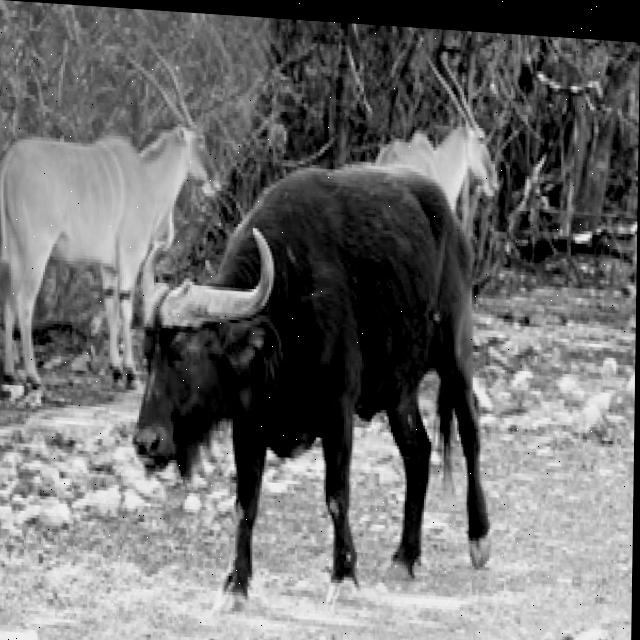Buffalo: (128, 150, 501, 632)
